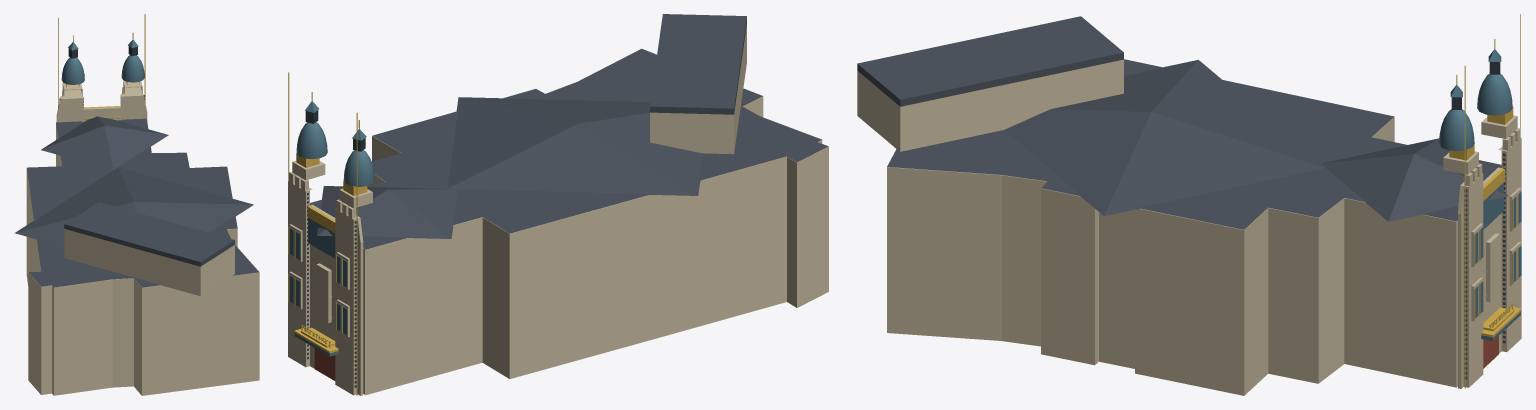
The model's file is tuschinski.glb.
3 renders of one model, left to right at view 1: azimuth 30°, elevation 25°; view 2: azimuth 150°, elevation 25°; view 3: azimuth 270°, elevation 25°, orthographic. The views are drawn at different scales.
Parts seen in each view (by area): view 1: tuschinski; view 2: tuschinski; view 3: tuschinski.
Boxes of the visible parts, box(x1,y1,x2,y2) form: tuschinski: box(14, 14, 259, 395); tuschinski: box(288, 14, 828, 395); tuschinski: box(857, 14, 1521, 395).
Bounding box in the file's own units: 48.38 × 37 × 69.03.
